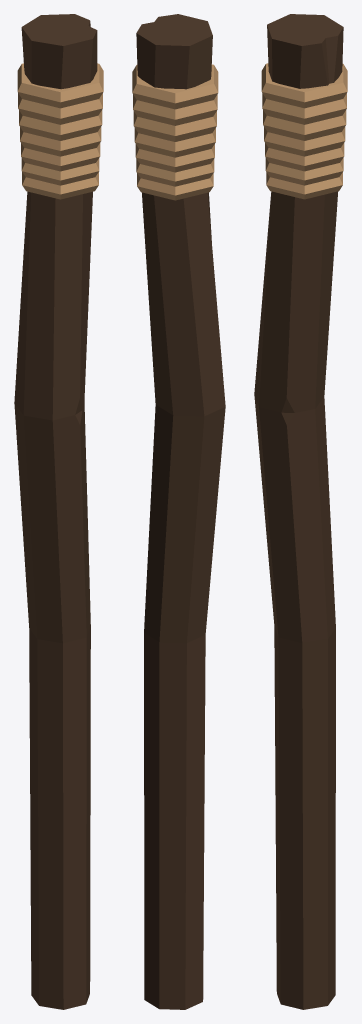
Rendered from Pillar_3.fbx.
The picture shows the model from 3 angles, left to right: view 1: azimuth 30°, elevation 25°; view 2: azimuth 150°, elevation 25°; view 3: azimuth 330°, elevation 25°; orthographic projection.
Visible parts, largest first — view 1: Pillar_3; view 2: Pillar_3; view 3: Pillar_3.
Boxes of the visible parts, x1=… form: Pillar_3: x1=14, y1=14, x2=103, y2=1009; Pillar_3: x1=132, y1=14, x2=225, y2=1009; Pillar_3: x1=254, y1=14, x2=347, y2=1009.
Bounding box in the file's own units: 20.19 × 23.47 × 251.
